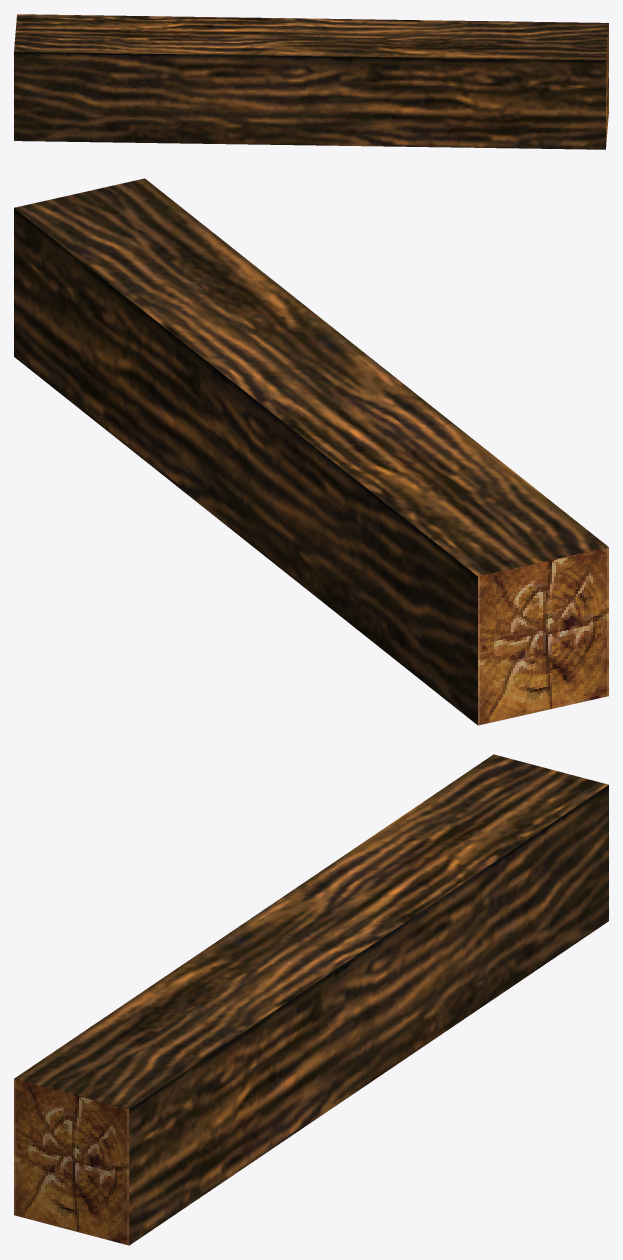
Rendered from OVERHILL_A_01_BOX86.fbx.
The picture shows the model from 3 angles, top to bottom: view 1: azimuth 30°, elevation 25°; view 2: azimuth 150°, elevation 25°; view 3: azimuth 270°, elevation 25°; orthographic projection. The views are drawn at different scales.
Parts seen in each view (by area): view 1: OVERHILL_A_01_BOX86; view 2: OVERHILL_A_01_BOX86; view 3: OVERHILL_A_01_BOX86.
Boxes of the visible parts, x1=… form: OVERHILL_A_01_BOX86: x1=14, y1=14, x2=608, y2=149; OVERHILL_A_01_BOX86: x1=14, y1=178, x2=608, y2=725; OVERHILL_A_01_BOX86: x1=14, y1=754, x2=608, y2=1245.
Size of the model in its own units: 13064 by 2342 by 9256.
Materials: 2 (2 with a texture image).
